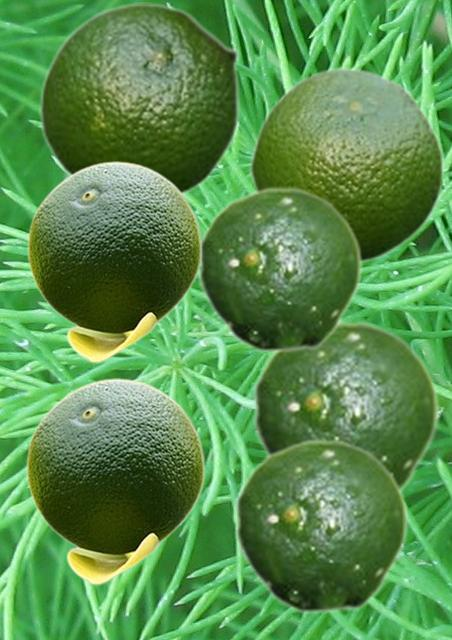calamansi: (39, 2, 240, 196), (248, 65, 444, 263), (26, 378, 204, 584), (27, 161, 201, 362), (252, 320, 439, 492), (234, 438, 408, 614), (197, 186, 362, 353)
